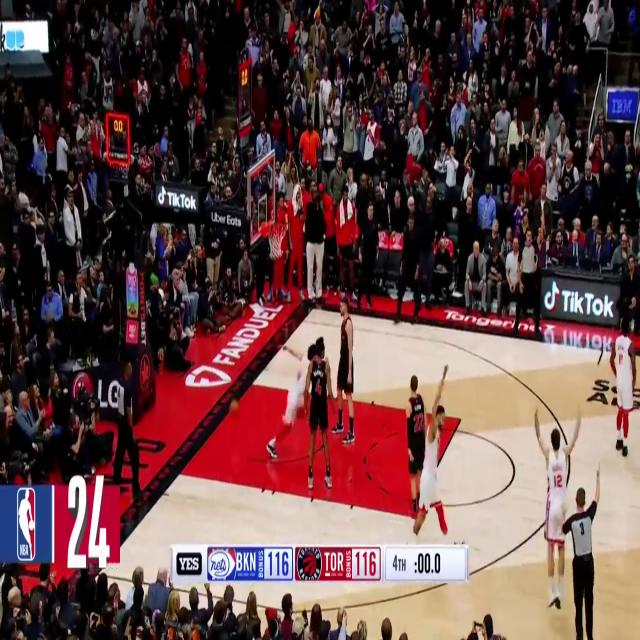Left Bottom Left Paint: (169, 454, 190, 492)
Left Bottom Right Paint: (404, 498, 428, 536)
Left Corner: (302, 289, 326, 328)
Left Tick: (594, 328, 612, 374)
Left Top Left Paint: (240, 366, 262, 405)
Left Top Right Paint: (450, 401, 471, 438)
